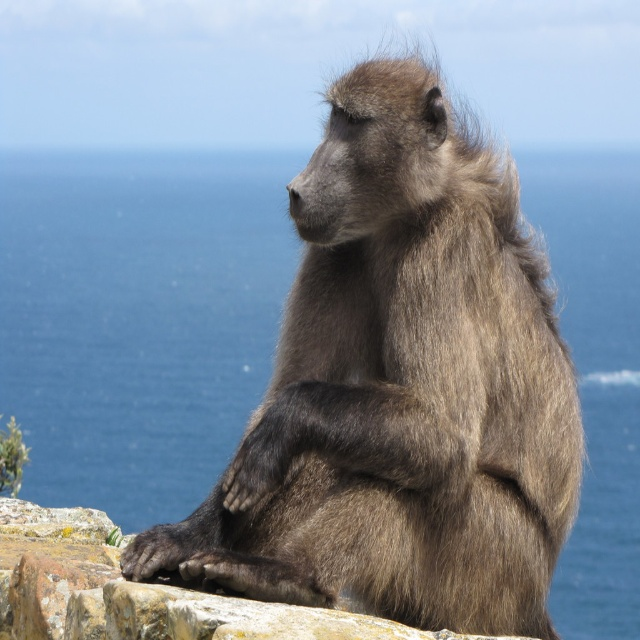Monkey: (135, 57, 579, 631)
